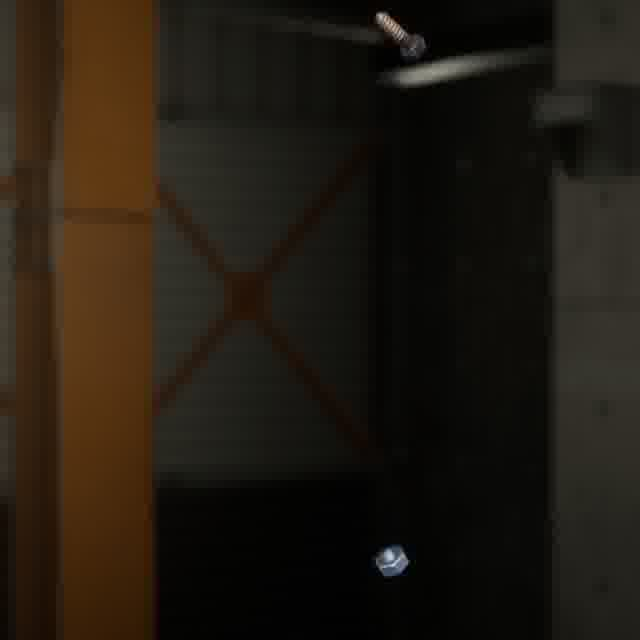bolt: (370, 8, 430, 65)
nut: (370, 540, 413, 580)
